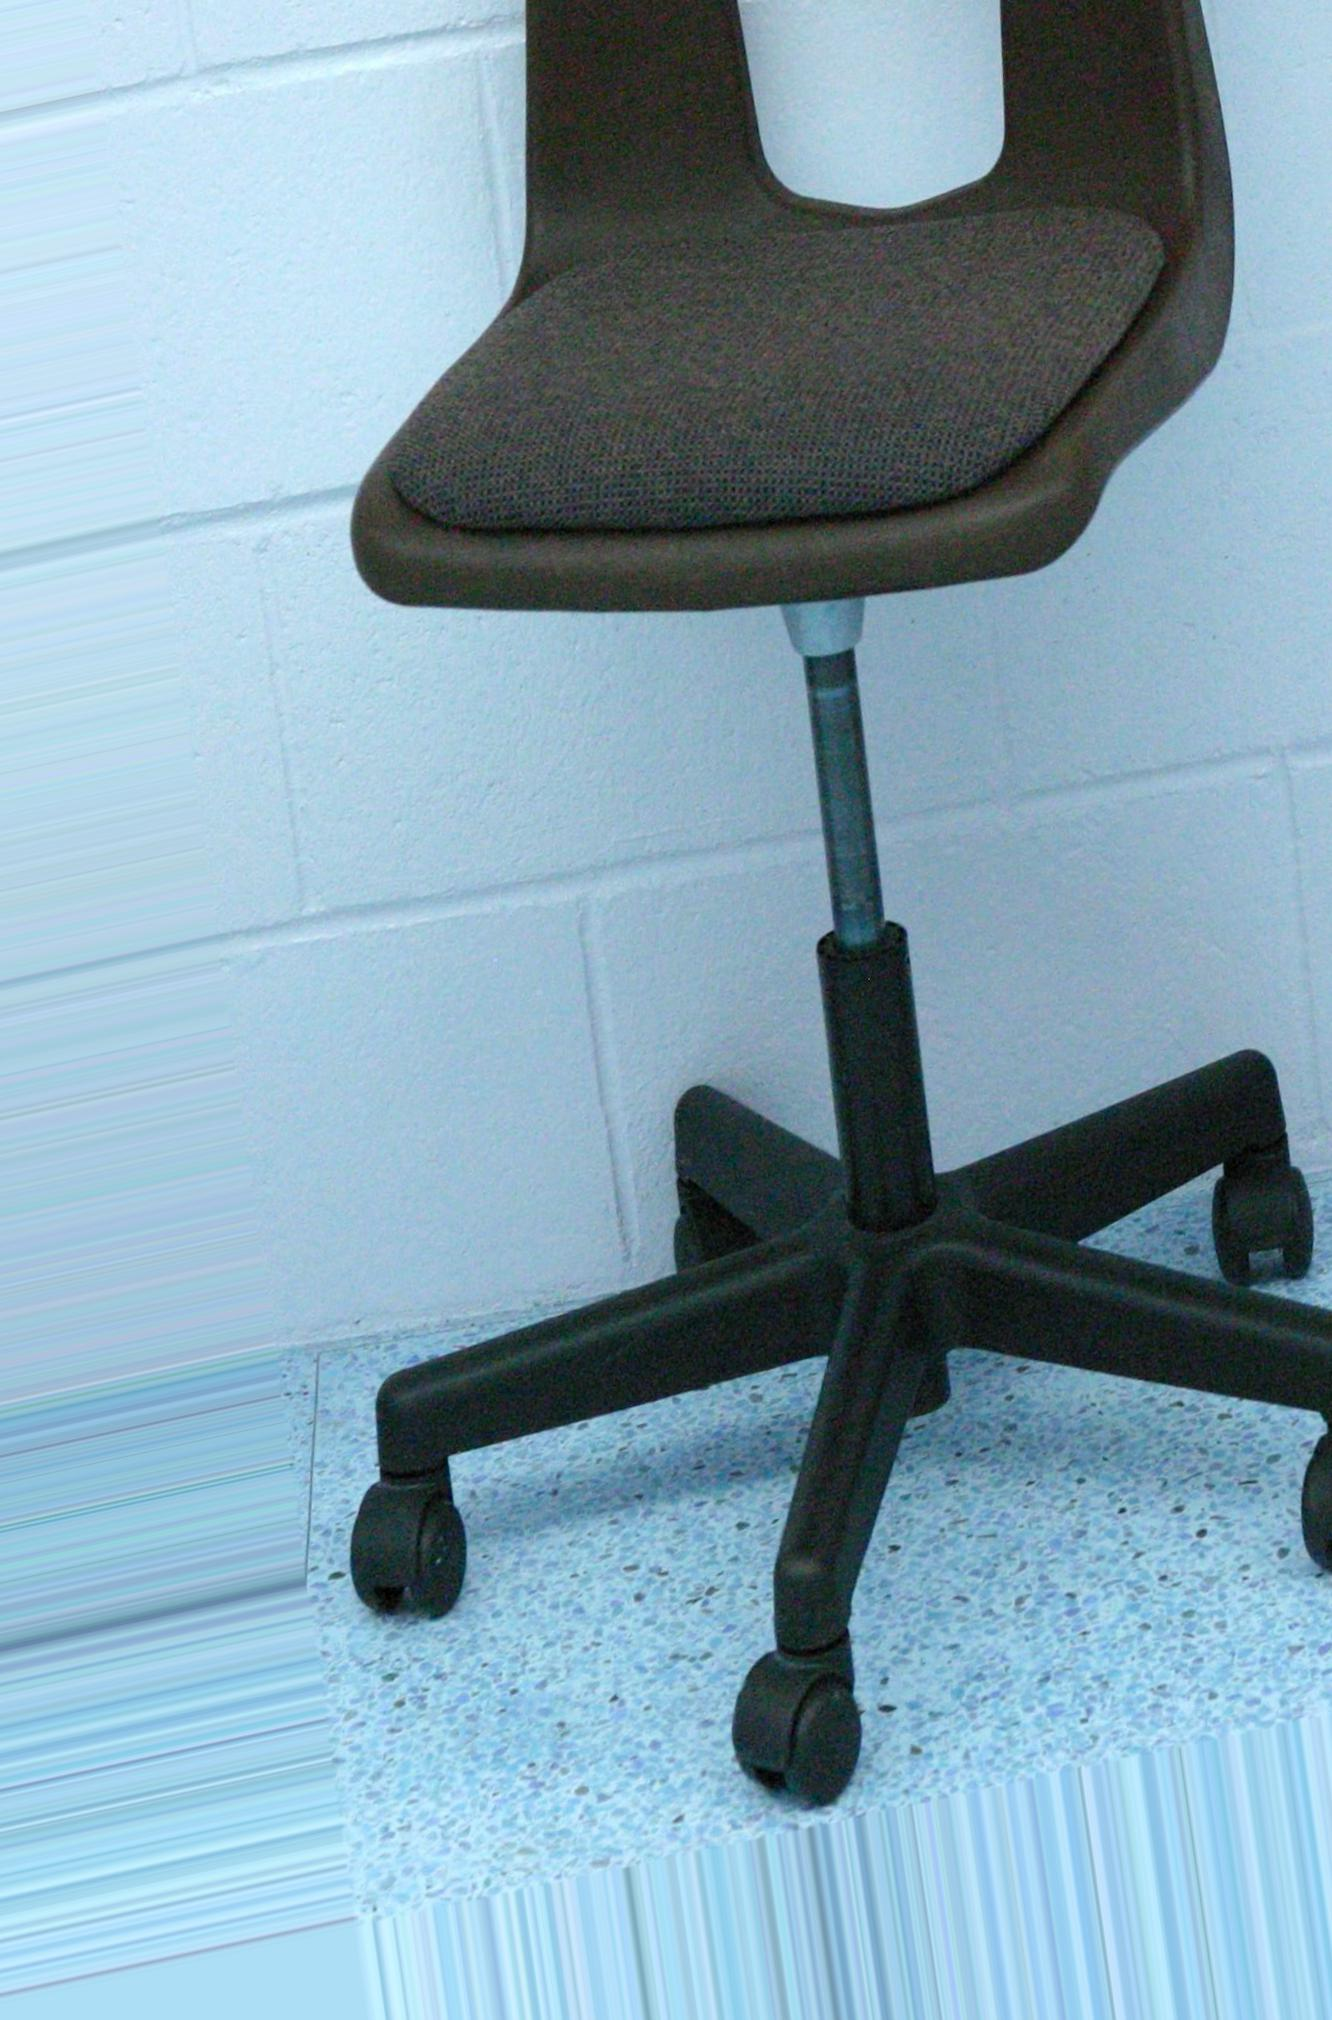chair: (343, 1, 1332, 1804)
